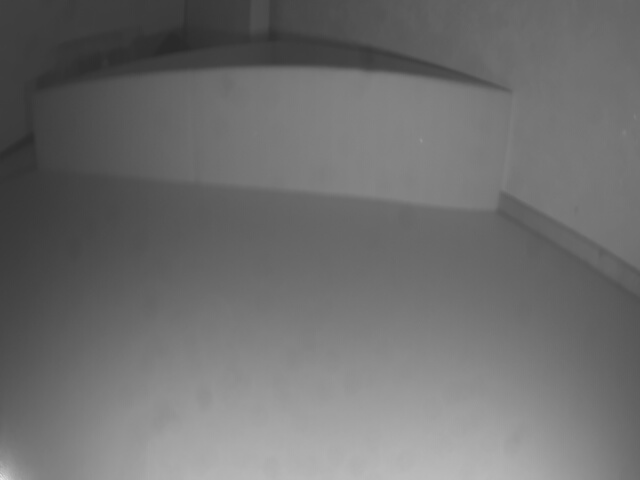Point: (31, 72, 505, 208)
